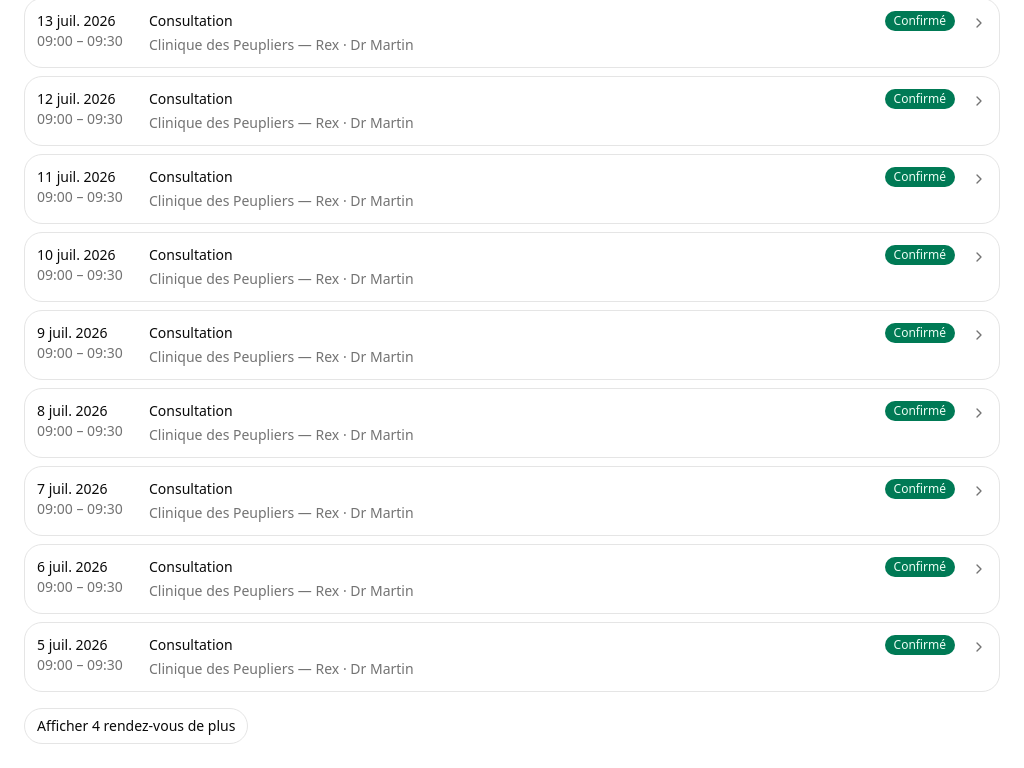
Test: AppointmentsContent — historique › n'affiche qu'un premier lot, et propose la suite
(page scrolled)
Click the button "Afficher 4 rendez-vous de plus" at coordinates (136, 726), box [24,708,248,744]
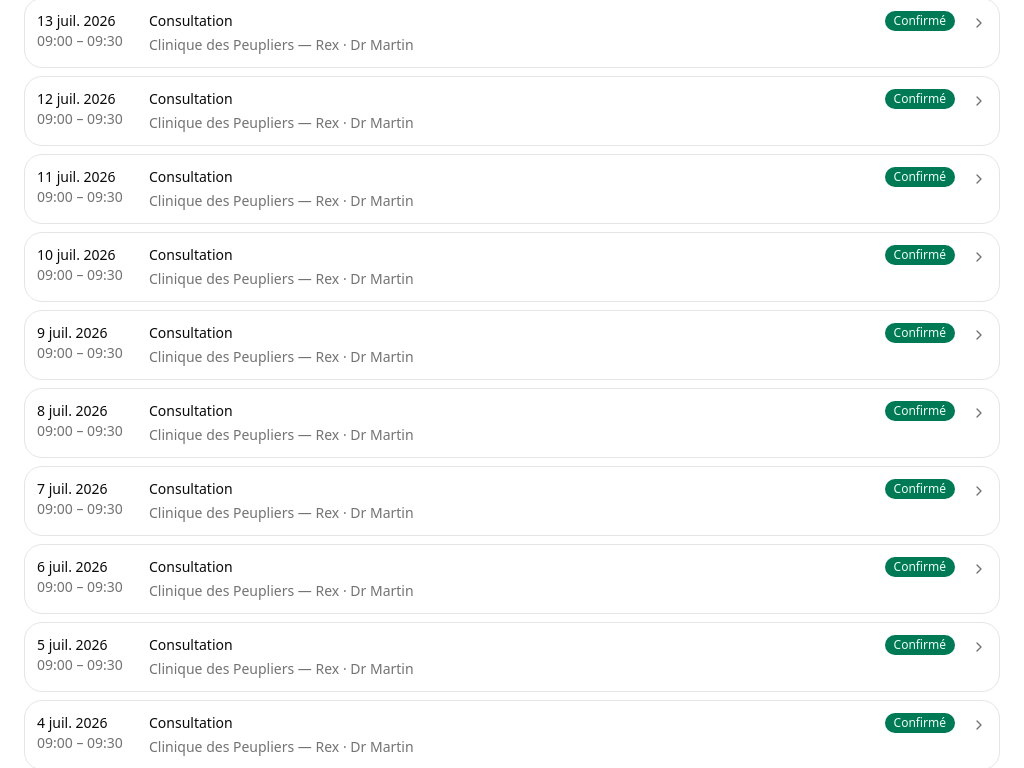
Now the button "rendez-vous de plus" is gone
